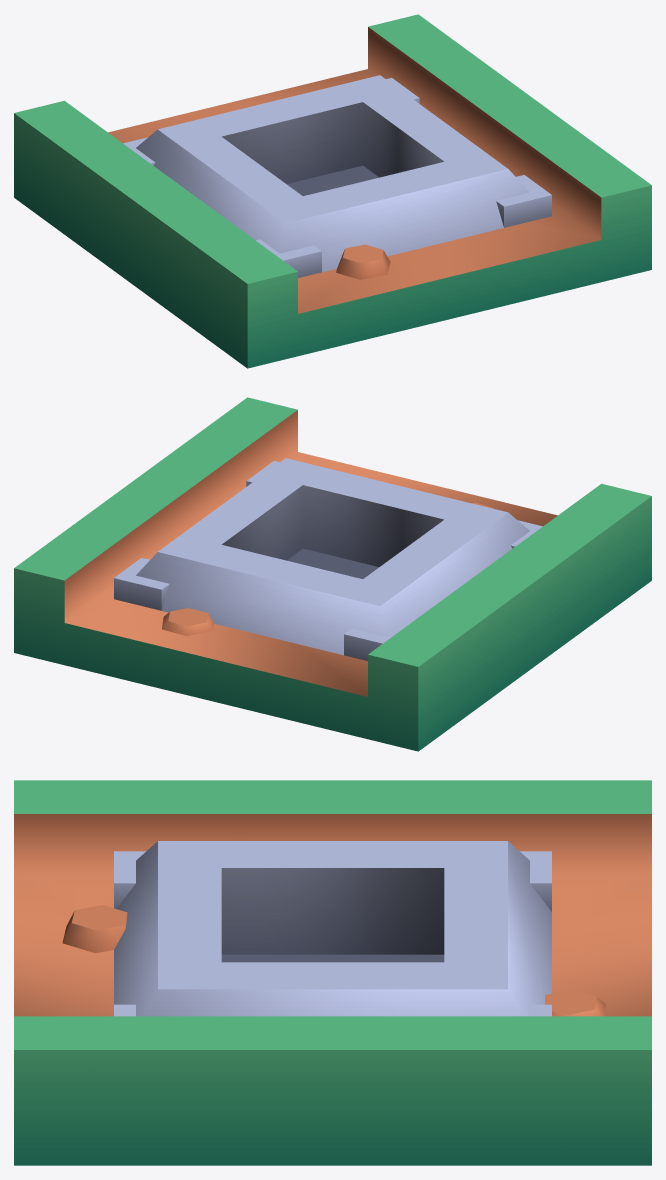
The model's file is tile-spawn.fbx.
3 views of the same model, one above another, from view 1: azimuth 30°, elevation 25°; view 2: azimuth 150°, elevation 25°; view 3: azimuth 270°, elevation 25° (orthographic). The views are drawn at different scales.
Parts seen in each view (by area): view 1: tile-spawn; view 2: tile-spawn; view 3: tile-spawn.
Part boxes in pixels (x1=…): tile-spawn: x1=14, y1=14, x2=651, y2=368; tile-spawn: x1=14, y1=397, x2=651, y2=751; tile-spawn: x1=14, y1=780, x2=651, y2=1165.
Bounding box in the file's own units: 100 × 20 × 100.
